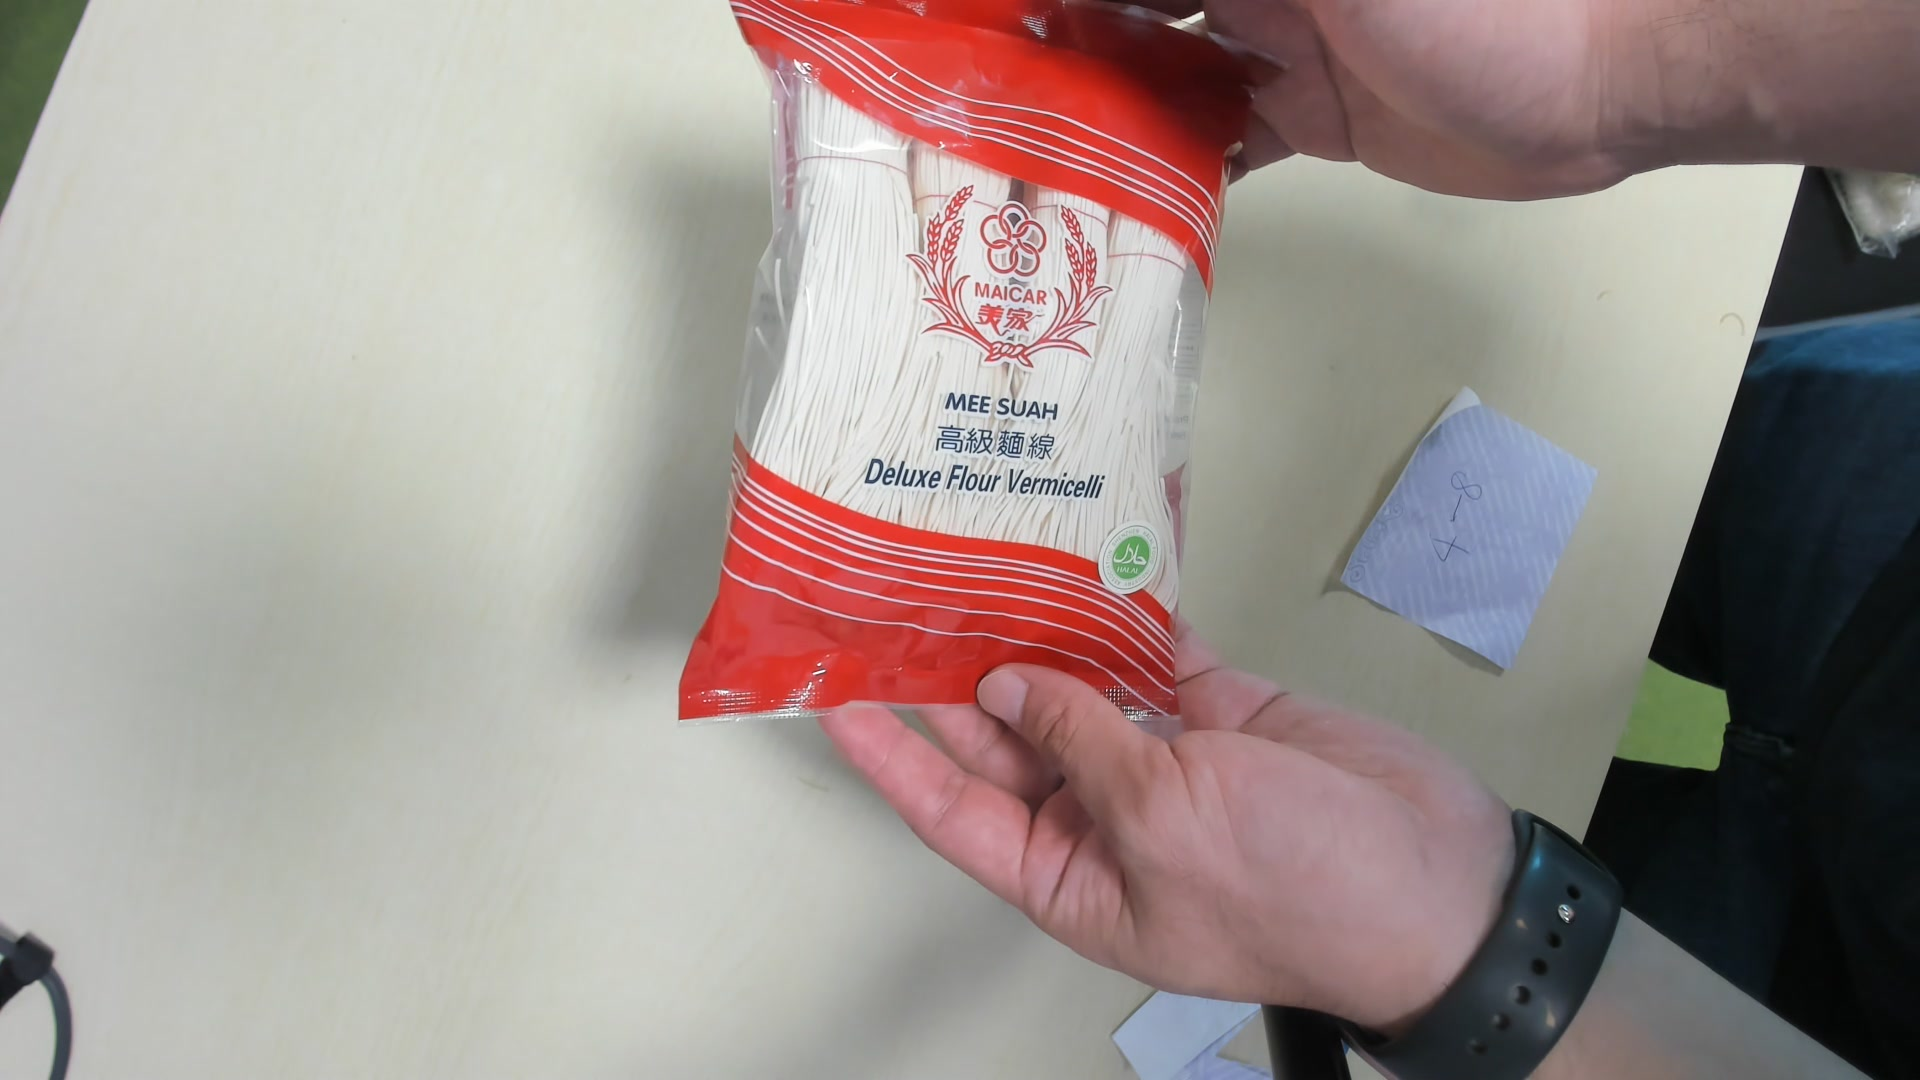BeeHoonVermicelli_100-199g_Halal_NonHealthy: (679, 11, 1284, 741)
